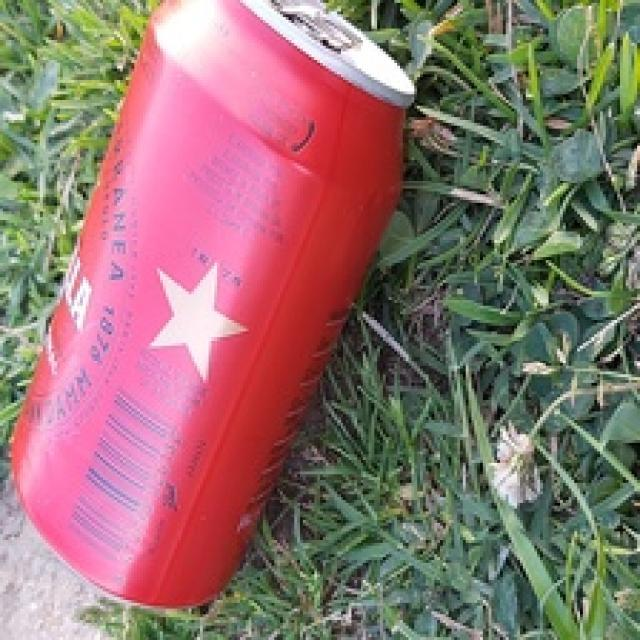garbage: (12, 0, 436, 640)
